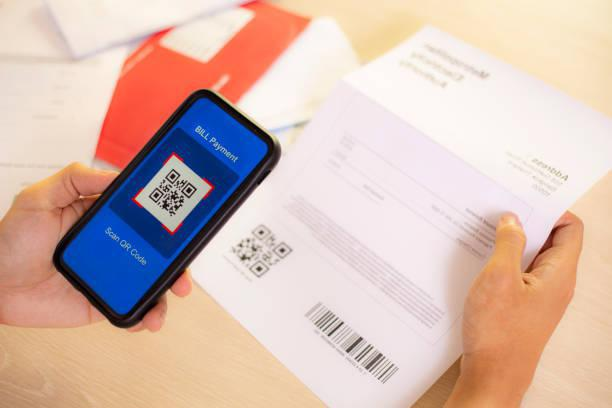Finder pattern: (249, 258, 272, 280), (270, 239, 294, 260), (251, 221, 273, 241), (147, 187, 165, 205), (162, 168, 181, 185), (180, 182, 198, 199)
